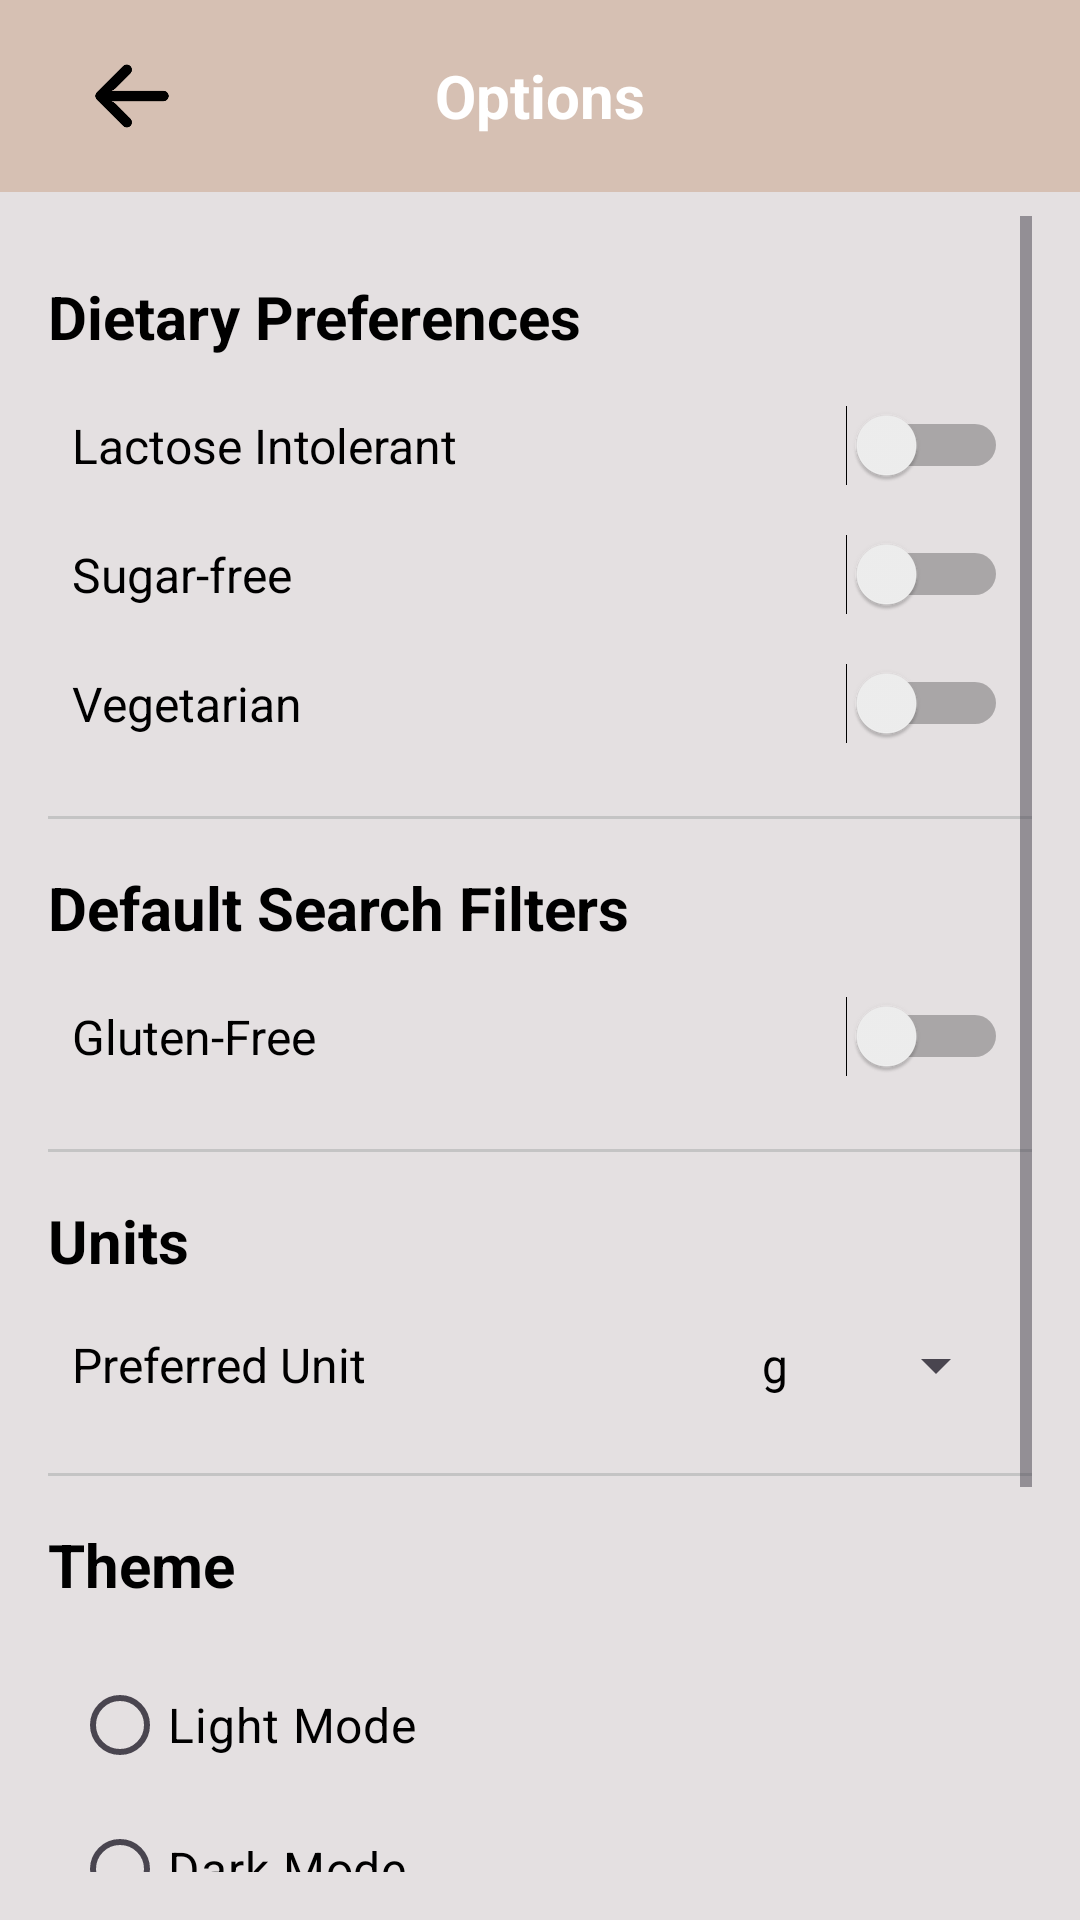

Icon click points for this 1080 × 1920 phone screenshot, format point (x, y):
arrow back: point (132, 96)
